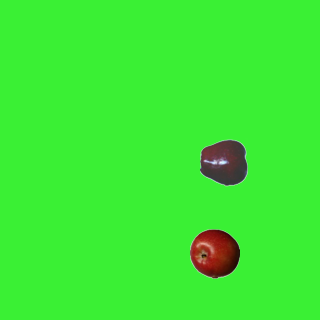Apple Braeburn: (189, 228, 239, 278)
Apple Red Delicious: (199, 137, 249, 187)
